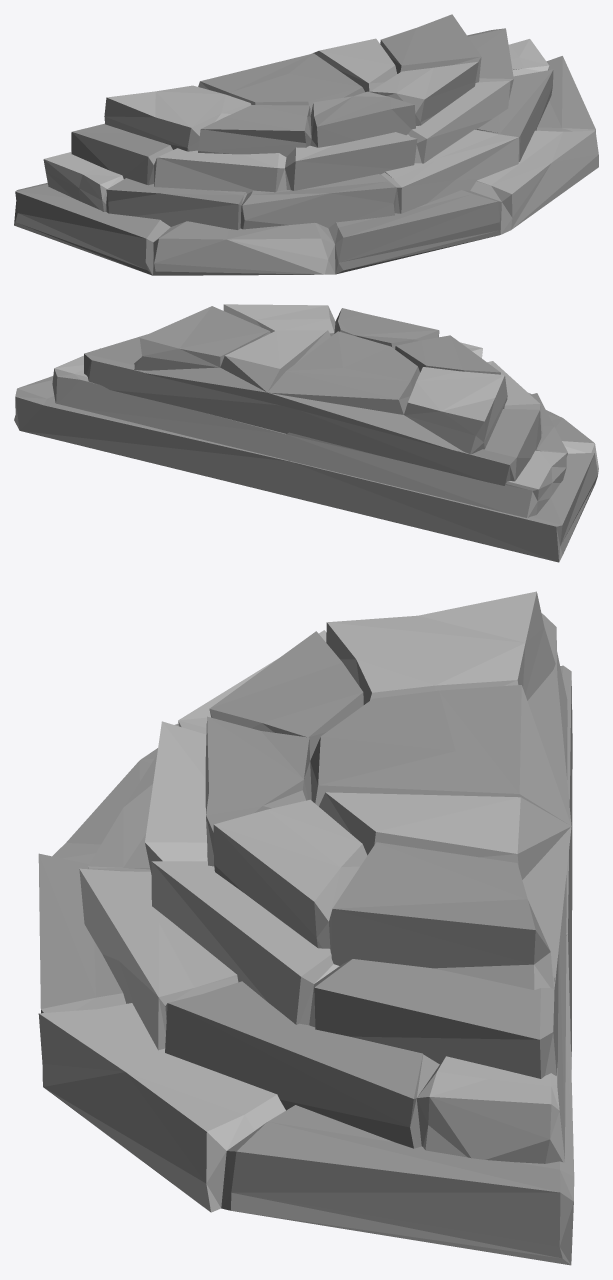
File: _STAIRS_06_1.fbx
3 renders of one model, top to bottom at view 1: azimuth 30°, elevation 25°; view 2: azimuth 150°, elevation 25°; view 3: azimuth 270°, elevation 25°, orthographic. The views are drawn at different scales.
Parts seen in each view (by area): view 1: STAIRS_06_1; view 2: STAIRS_06_1; view 3: STAIRS_06_1.
Part boxes in pixels (box(x1,y1,x2,y2)): STAIRS_06_1: box(14, 14, 598, 275); STAIRS_06_1: box(14, 304, 598, 562); STAIRS_06_1: box(38, 591, 574, 1265).
Bounding box in the file's own units: 285 × 57.62 × 121.
